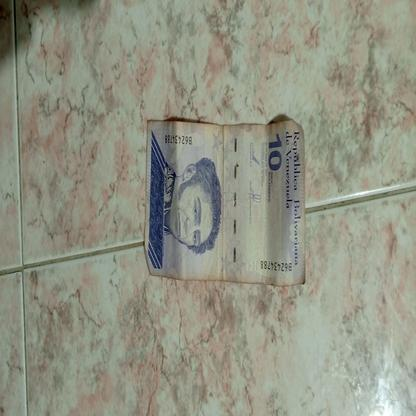ten-front-vef: (118, 108, 286, 270)
